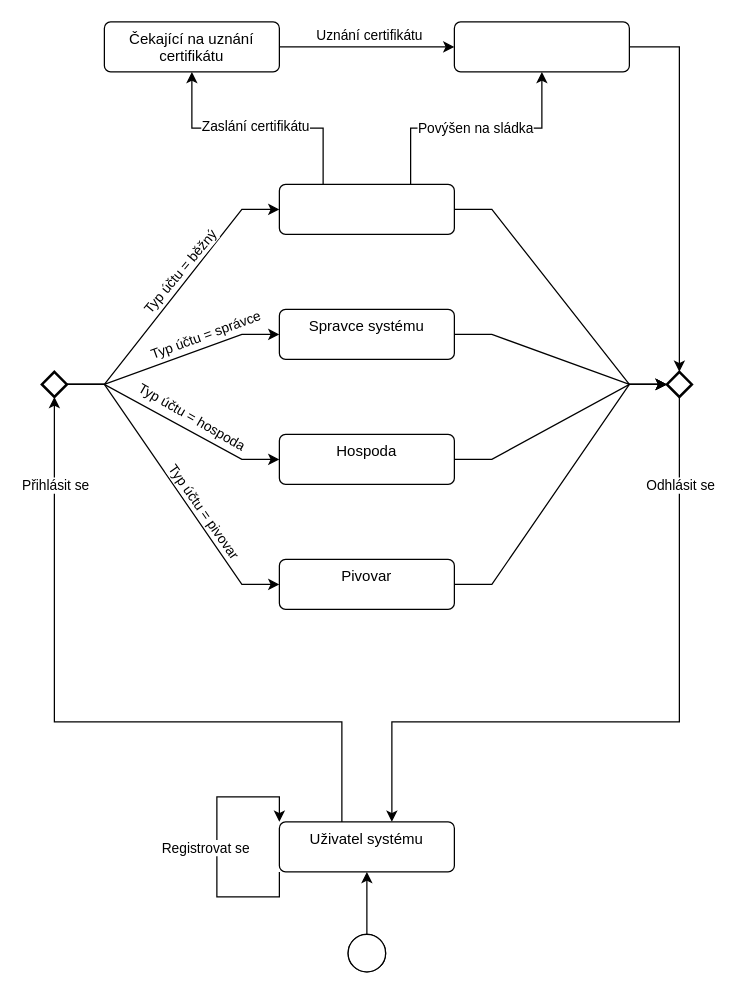
Image size: 736x994. Some labels were removed from this diagram. The shapes that lost their labels are listed below. From the top down, each one's centre as x and y in pixels, then its label:
the point at 541,46: Certifikovaný sládek
the point at 366,208: Běžný uživatel
